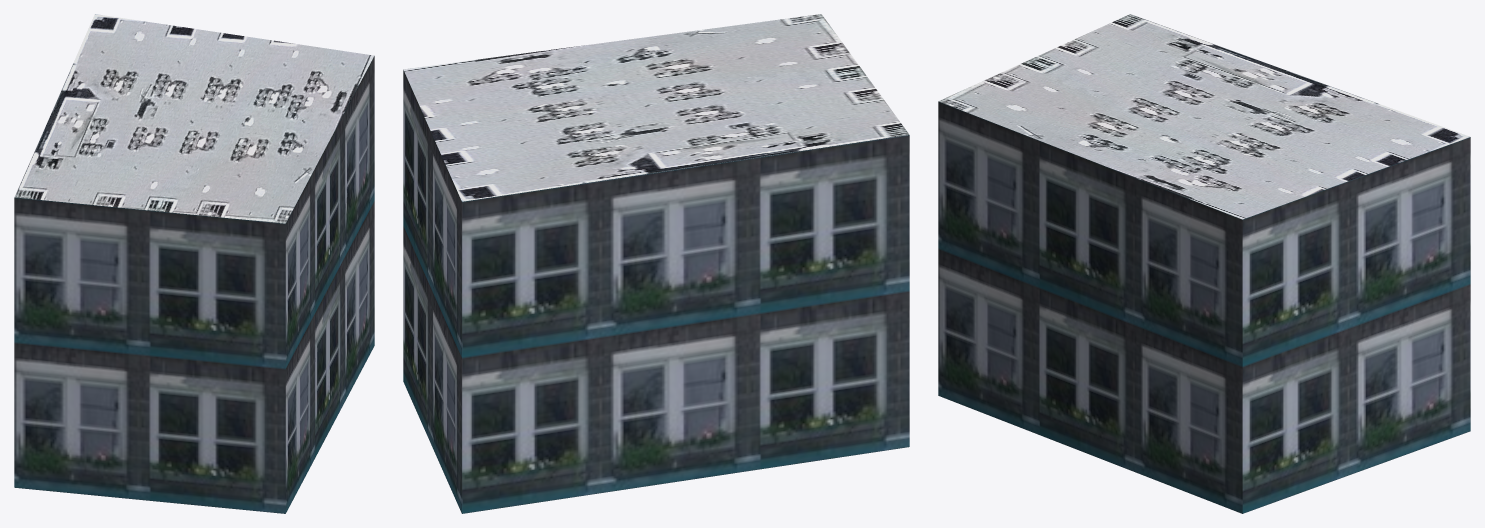
Rendered from ResTex__2385.fbx.
The picture shows the model from 3 angles, left to right: view 1: azimuth 30°, elevation 25°; view 2: azimuth 150°, elevation 25°; view 3: azimuth 270°, elevation 25°; orthographic projection. The views are drawn at different scales.
Visible parts, largest first — view 1: CityEngineMaterial_11_m, CityEngineMaterial_8_m; view 2: CityEngineMaterial_11_m, CityEngineMaterial_8_m; view 3: CityEngineMaterial_11_m, CityEngineMaterial_8_m.
Part boxes in pixels (left/top/right/bottom): CityEngineMaterial_11_m: left=14, top=56, right=374, bottom=513; CityEngineMaterial_8_m: left=14, top=14, right=373, bottom=223; CityEngineMaterial_11_m: left=403, top=70, right=909, bottom=513; CityEngineMaterial_8_m: left=403, top=14, right=909, bottom=201; CityEngineMaterial_11_m: left=938, top=101, right=1470, bottom=513; CityEngineMaterial_8_m: left=938, top=14, right=1469, bottom=219.
Size of the model in its own units: 8.99 by 6 by 9.84.
Materials: 2 (2 with a texture image).
